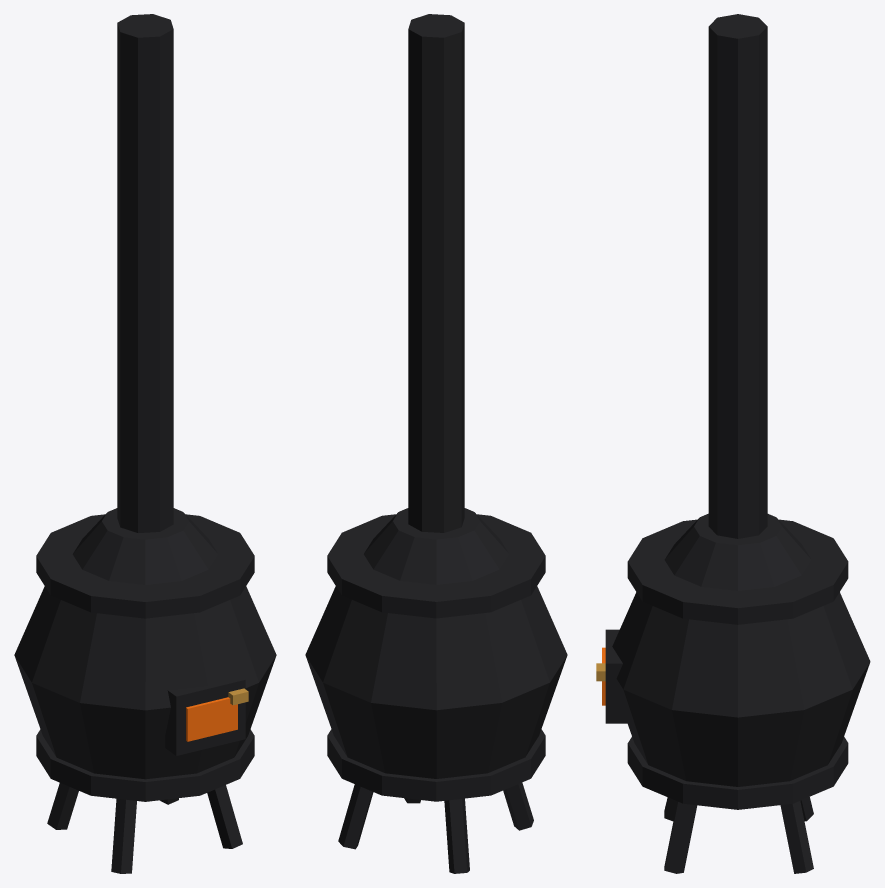
The model's file is SM_Stove.obj.
The picture shows the model from 3 angles, left to right: view 1: azimuth 30°, elevation 25°; view 2: azimuth 150°, elevation 25°; view 3: azimuth 270°, elevation 25°; orthographic projection.
Parts seen in each view (by area): view 1: SM_Stove; view 2: SM_Stove; view 3: SM_Stove.
Part boxes in pixels (x1,y1,x2,y2): SM_Stove: (14,14,276,873); SM_Stove: (305,14,567,873); SM_Stove: (596,14,870,873).
Size of the model in its own units: 0.72 by 2.46 by 0.745.
